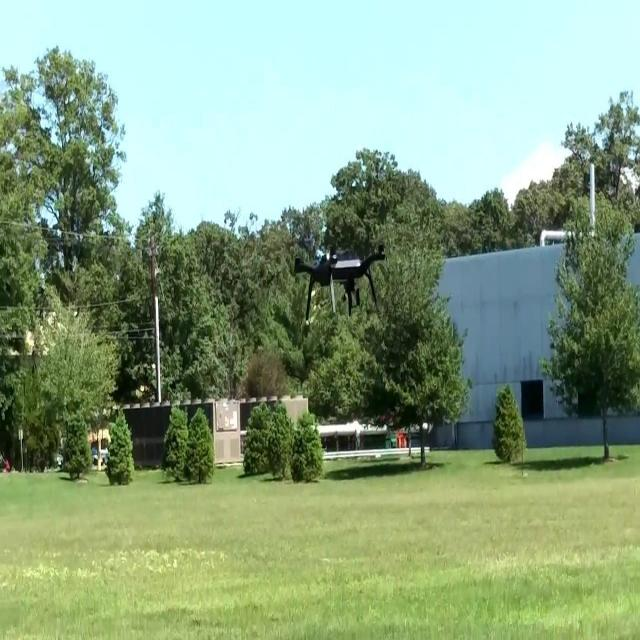UAV: (294, 244, 386, 321)
